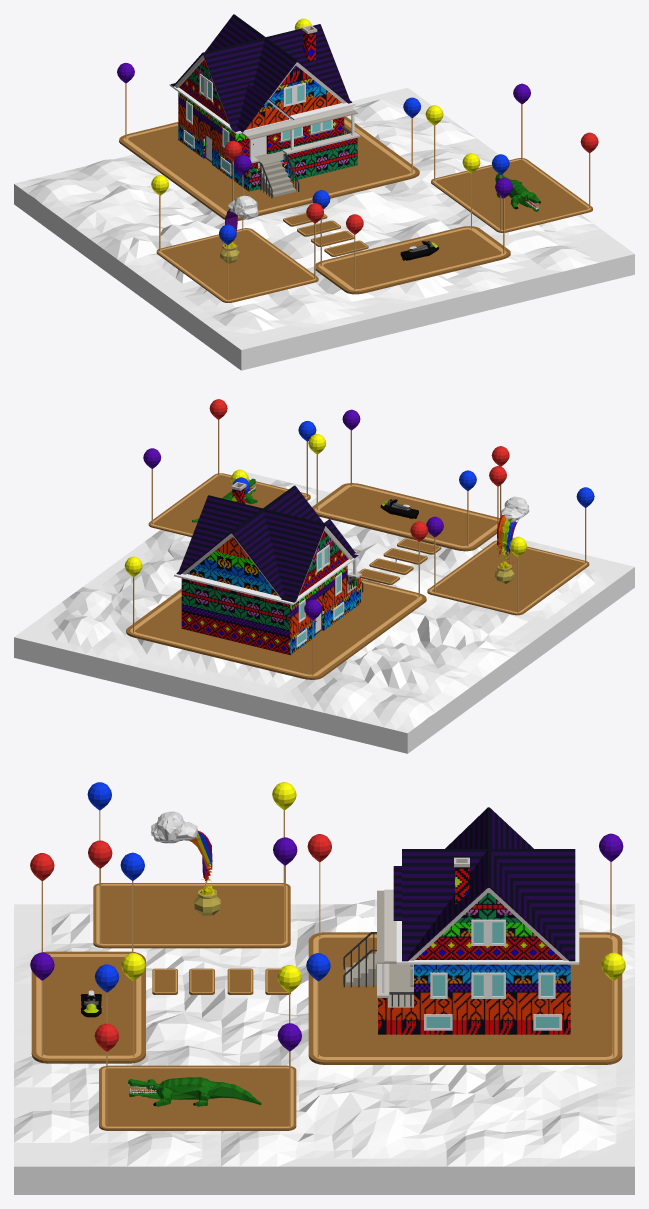
3 renders of one model, top to bottom at view 1: azimuth 30°, elevation 25°; view 2: azimuth 150°, elevation 25°; view 3: azimuth 270°, elevation 25°, orthographic. The views are drawn at different scales.
Parts seen in each view (by area): view 1: Cube.013, Cube.966, OBJRANDOM_RAINBOW, ANIMAL_COCODRILO; view 2: Cube.013, Cube.966, OBJRANDOM_RAINBOW; view 3: Cube.013, Cube.966, ANIMAL_COCODRILO, OBJRANDOM_RAINBOW.
Boxes of the visible parts, <box> form: Cube.013: <box>14,18,634,370</box>; Cube.966: <box>169,14,360,198</box>; OBJRANDOM_RAINBOW: <box>220,195,258,263</box>; ANIMAL_COCODRILO: <box>495,173,540,211</box>; Cube.013: <box>14,399,634,753</box>; Cube.966: <box>174,482,363,655</box>; OBJRANDOM_RAINBOW: <box>494,496,529,583</box>; Cube.013: <box>14,782,634,1194</box>; Cube.966: <box>343,807,579,1034</box>; ANIMAL_COCODRILO: <box>128,1077,261,1106</box>; OBJRANDOM_RAINBOW: <box>151,811,220,915</box>.
Bounding box in the file's own units: 4000 × 1789 × 4000.
38 materials, 5 textured.
